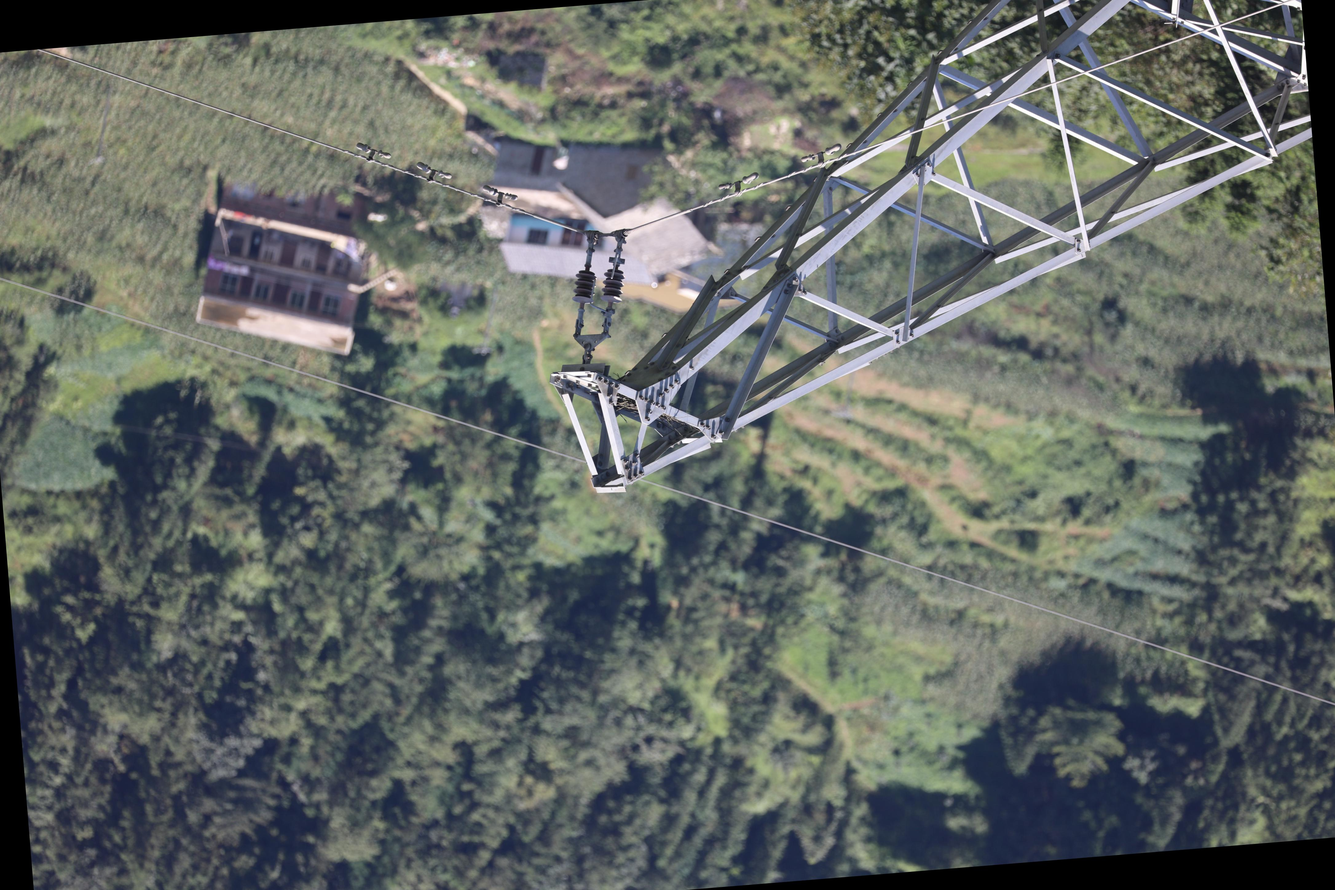damper: (715, 169, 762, 200), (798, 141, 845, 171), (479, 180, 521, 211), (354, 137, 394, 167), (414, 157, 454, 187)
